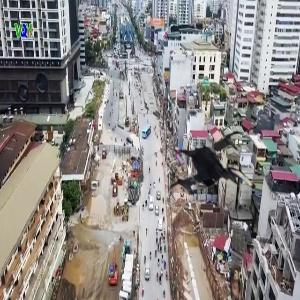drone: (164, 123, 270, 229)
